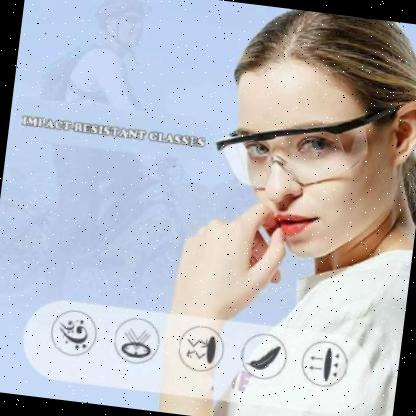oculos: (194, 81, 413, 212)
